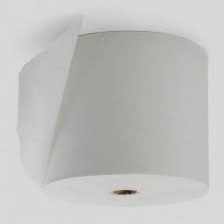tissue: (11, 9, 213, 211)
